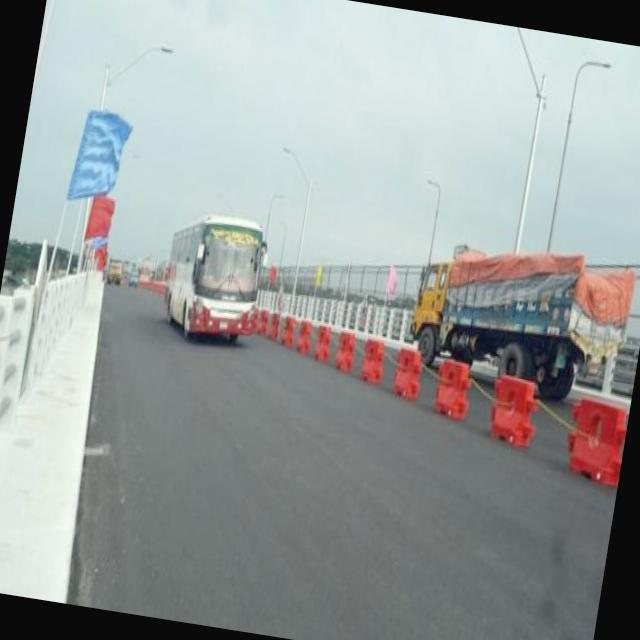bus: (160, 202, 274, 338)
truck: (408, 230, 640, 384), (109, 256, 128, 284), (130, 264, 142, 284)
